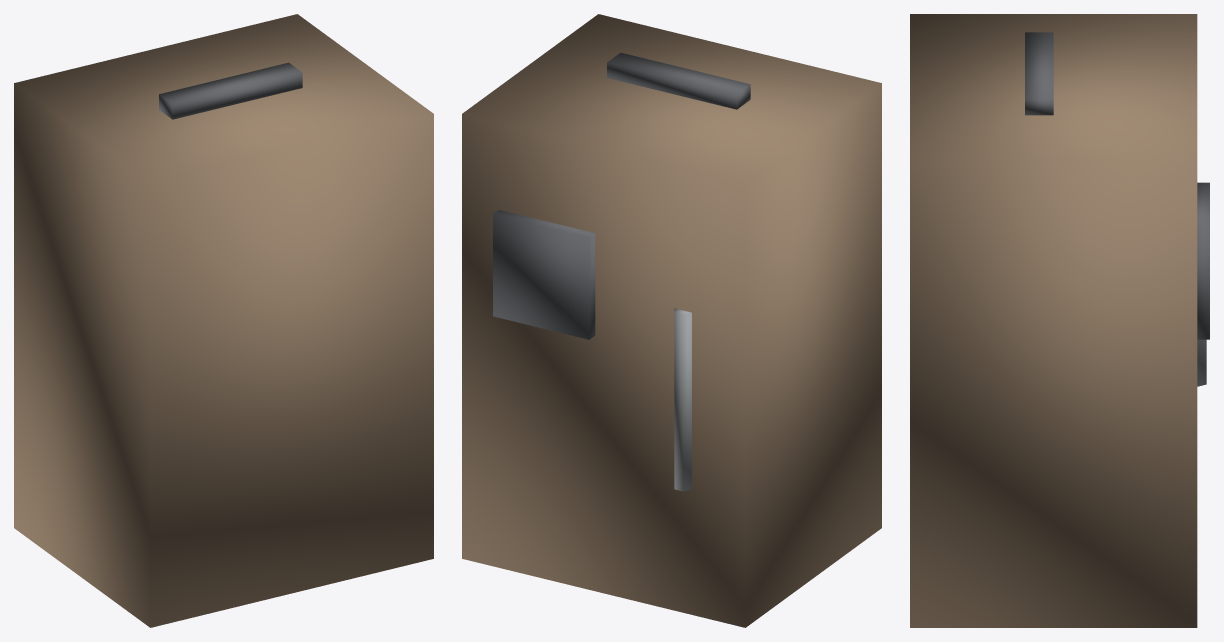
The model's file is donation_box__service.glb.
The picture shows the model from 3 angles, left to right: view 1: azimuth 30°, elevation 25°; view 2: azimuth 150°, elevation 25°; view 3: azimuth 270°, elevation 25°; orthographic projection. The views are drawn at different scales.
Parts seen in each view (by area): view 1: world; view 2: world; view 3: world.
Part boxes in pixels (x1,y1,x2,y2): world: (14,14,433,627); world: (462,14,881,627); world: (910,14,1209,627).
Bounding box in the file's own units: 0.48 × 0.7525 × 0.4175.
